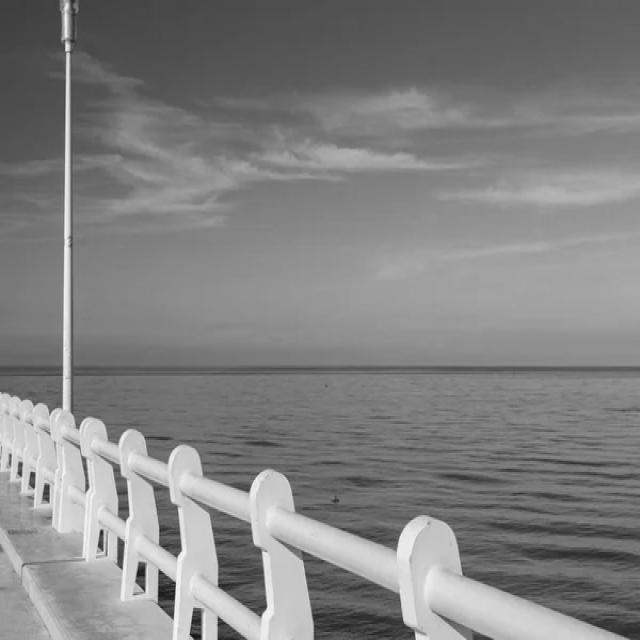Pole: (60, 0, 77, 412)
